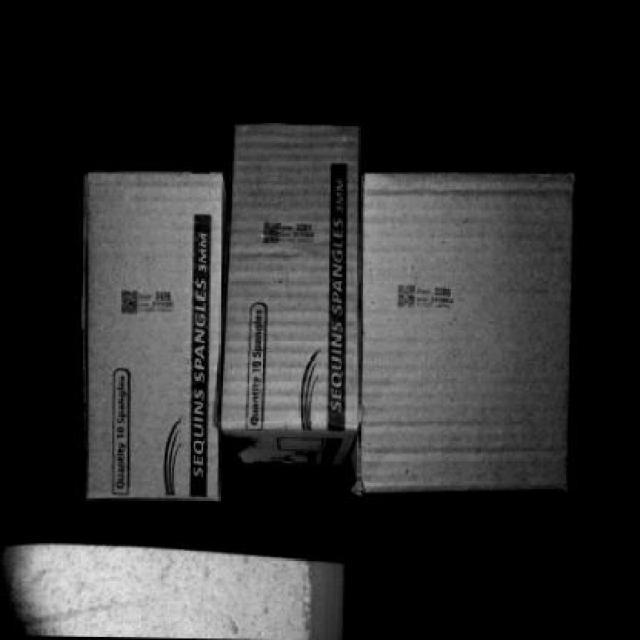box: (354, 176, 578, 498), (216, 118, 367, 434), (84, 176, 222, 501)
